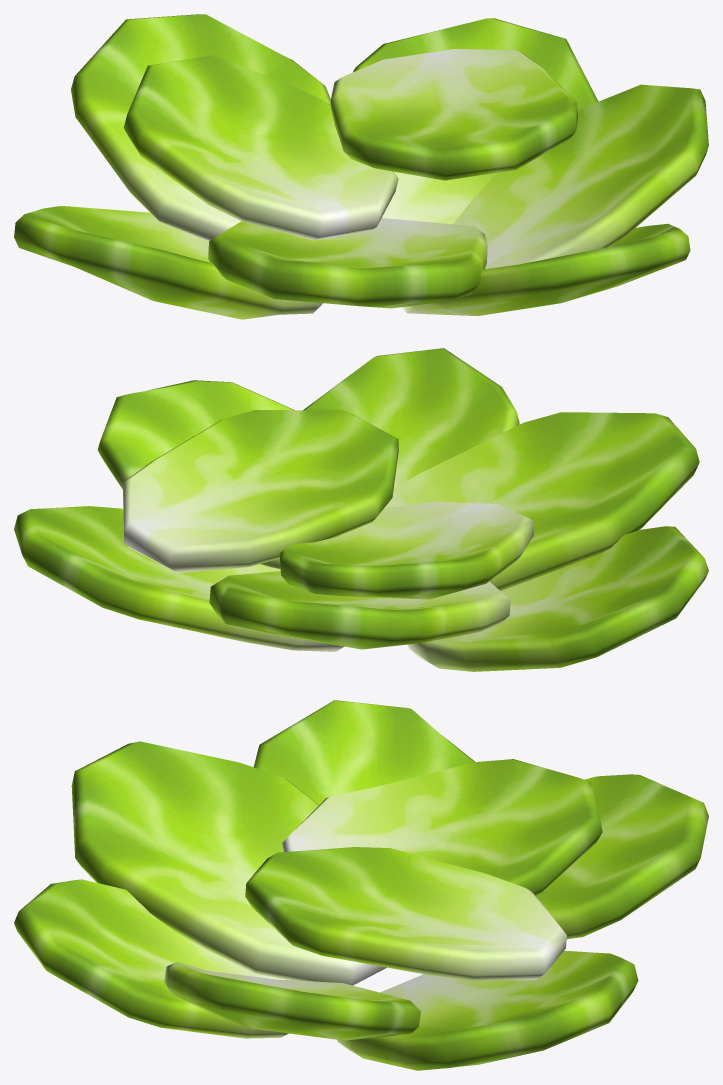
Rendered from m_plated_lettuce_01.fbx.
3 views of the same model, one above another, from view 1: azimuth 30°, elevation 25°; view 2: azimuth 150°, elevation 25°; view 3: azimuth 270°, elevation 25° (orthographic). The views are drawn at different scales.
Parts seen in each view (by area): view 1: m_plated_lettuce_01; view 2: m_plated_lettuce_01; view 3: m_plated_lettuce_01.
Boxes of the visible parts, x1,y1,x2,y2 form: m_plated_lettuce_01: (14,14,708,319); m_plated_lettuce_01: (14,348,708,671); m_plated_lettuce_01: (14,700,708,1070).
Size of the model in its own units: 87.88 by 23.42 by 82.62.
Materials: 1 (1 with a texture image).
